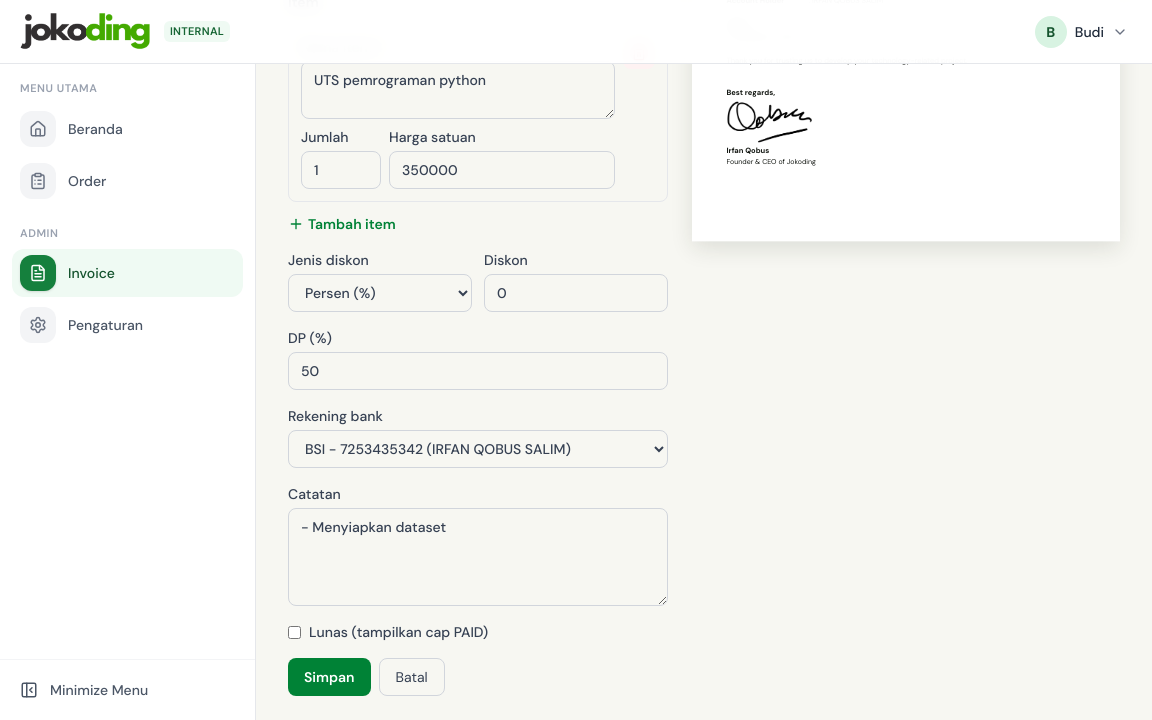
Test: InvoiceEditor (new) › shows an error when the saved invoice has no id
This screenshot has width=1152, height=720.
(page scrolled)
Click the button "Simpan" at (329, 677), box [288,658,371,696]
(page scrolled)
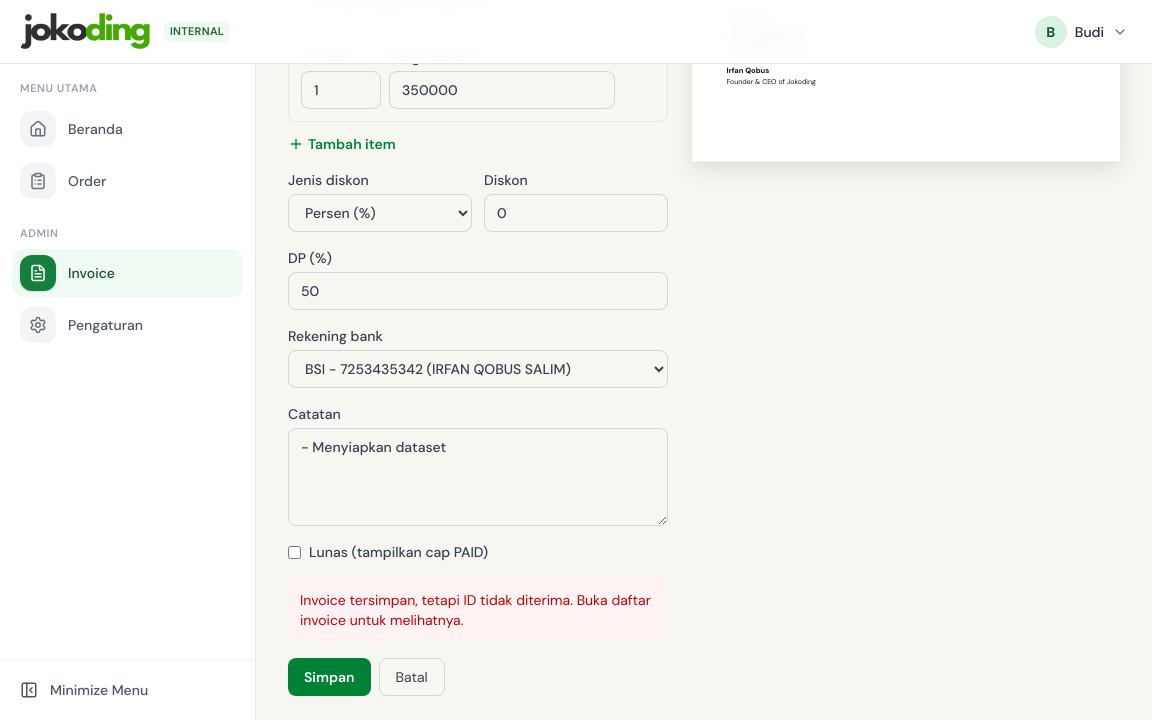
expect the text "ID tidak diterima" is shown: met, box [300,591,651,629]
